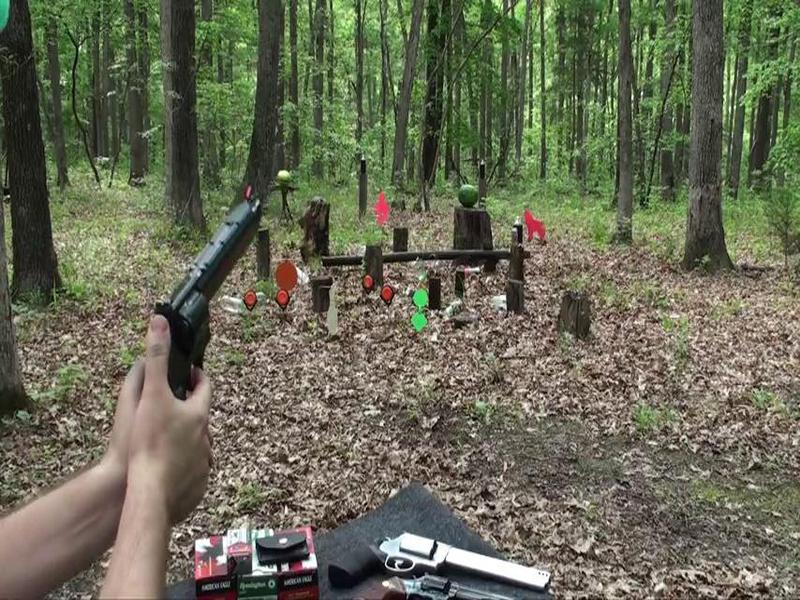Revolver: (132, 172, 287, 425)
